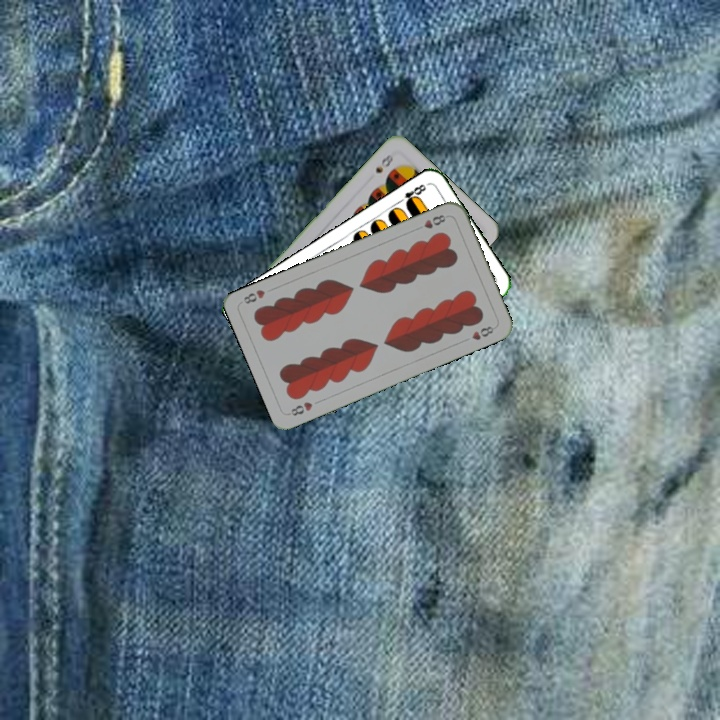E8: (394, 180, 429, 209)
H8: (412, 210, 448, 233), (285, 398, 315, 419)
S8: (371, 149, 396, 176)
